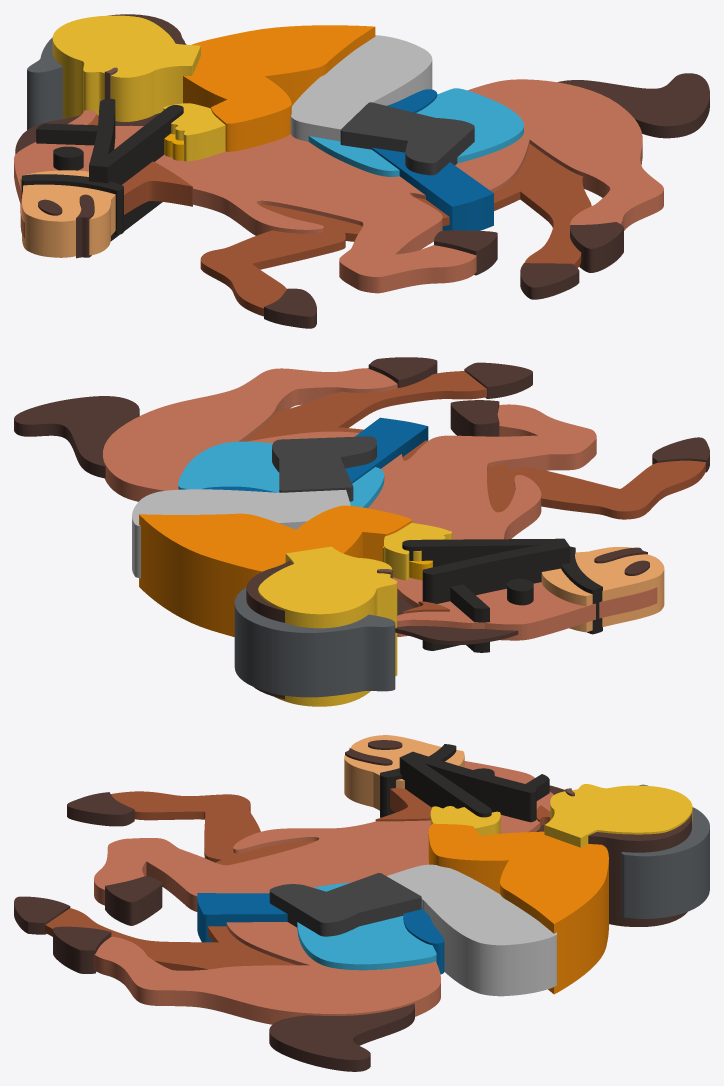
Rendered from emoji_u1f3c7.glb.
3 renders of one model, top to bottom at view 1: azimuth 30°, elevation 25°; view 2: azimuth 150°, elevation 25°; view 3: azimuth 270°, elevation 25°, orthographic. The views are drawn at different scales.
Parts seen in each view (by area): view 1: emoji_u1f3c7; view 2: emoji_u1f3c7; view 3: emoji_u1f3c7.
Boxes of the visible parts, x1,y1,x2,y2 form: emoji_u1f3c7: (14, 14, 709, 328); emoji_u1f3c7: (14, 357, 709, 706); emoji_u1f3c7: (14, 735, 709, 1071).
Size of the model in its own units: 0.0343 by 0.0048 by 0.0322.
